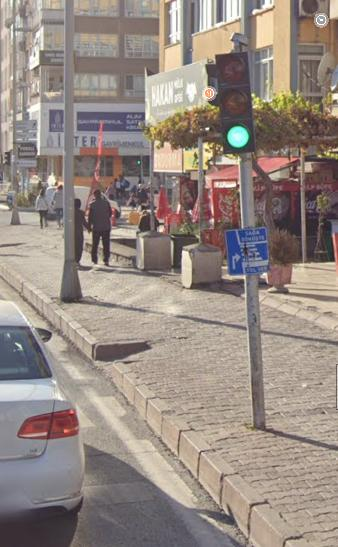greenlight: (216, 57, 255, 154)
